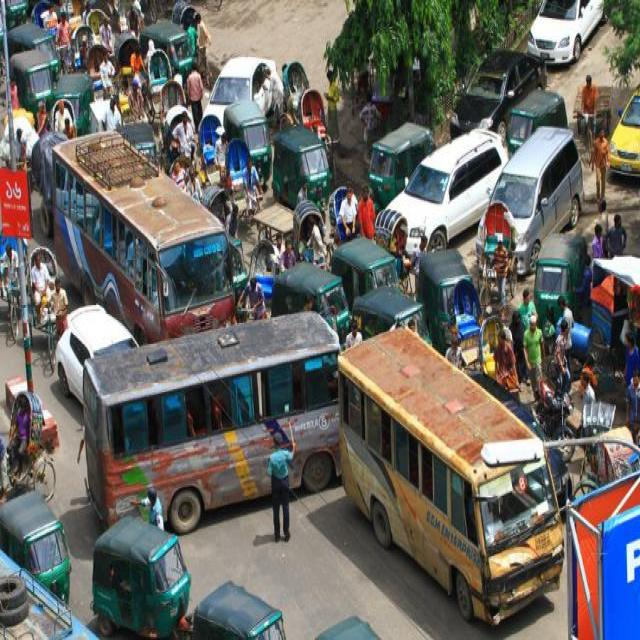bus: (0, 552, 86, 636)
car: (449, 41, 545, 122), (527, 1, 611, 59), (200, 52, 276, 104), (52, 301, 112, 360)
minibus: (337, 347, 563, 622), (84, 309, 336, 522), (49, 131, 235, 336)
minivan: (489, 135, 585, 227)
motorbike: (537, 374, 577, 457)
rickshaw: (6, 385, 56, 491), (24, 238, 56, 363), (479, 200, 513, 299), (476, 311, 516, 380), (448, 271, 477, 366), (596, 424, 636, 476), (1, 255, 21, 346), (248, 235, 274, 298), (291, 194, 321, 246), (376, 204, 408, 251), (220, 133, 248, 181), (328, 179, 348, 243), (580, 393, 616, 426), (196, 110, 218, 164), (51, 95, 75, 138), (281, 56, 307, 94), (298, 88, 324, 124), (144, 44, 170, 79), (72, 21, 94, 60), (111, 28, 133, 62), (157, 77, 183, 105), (171, 152, 193, 180), (115, 72, 129, 113), (171, 3, 197, 24), (82, 2, 104, 25), (90, 39, 100, 87), (32, 0, 50, 21), (164, 104, 180, 122)
suv: (405, 121, 503, 241)
taxi: (610, 86, 638, 182)
three wheelers -CNG-: (90, 520, 188, 634), (193, 576, 289, 635), (0, 482, 67, 566), (364, 121, 426, 196), (270, 125, 326, 198), (270, 257, 340, 308), (419, 246, 453, 340), (351, 284, 424, 326), (534, 234, 584, 295), (332, 232, 392, 279), (8, 50, 52, 103), (56, 68, 92, 122), (312, 609, 384, 635), (225, 98, 267, 134), (518, 87, 564, 116), (6, 22, 50, 46), (168, 25, 188, 68), (506, 113, 522, 141), (140, 23, 162, 37), (10, 0, 26, 18)
wheelbarrow: (570, 80, 612, 144)
